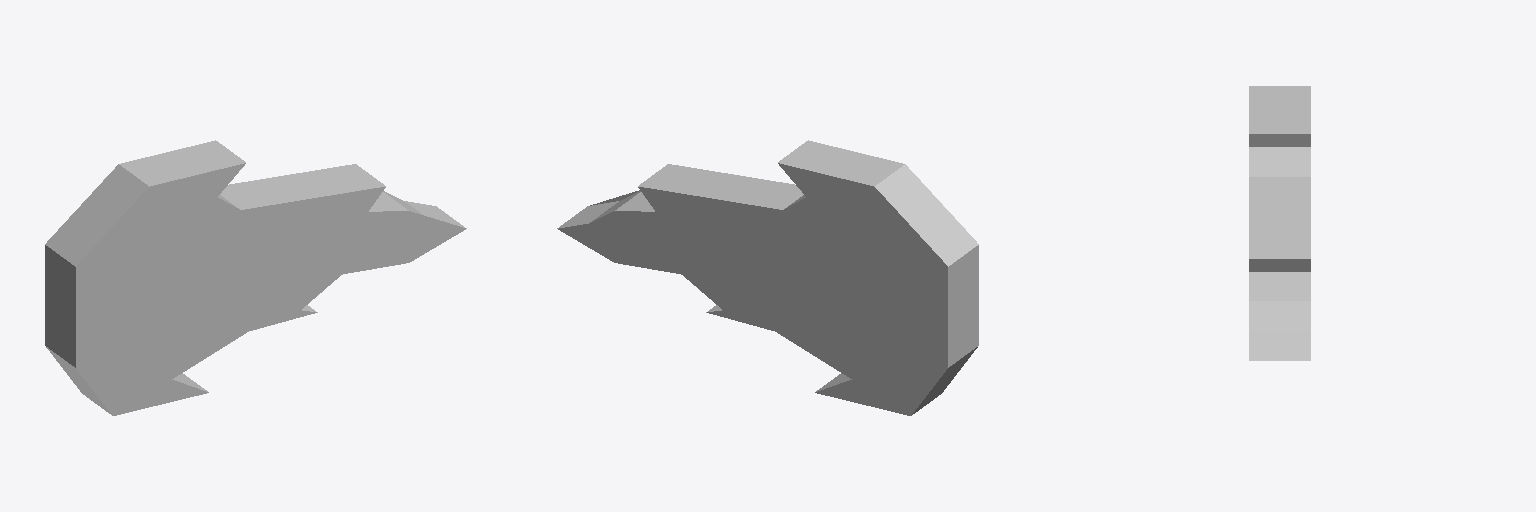
Rendered from roughFirebolt.obj.
3 renders of one model, left to right at view 1: azimuth 30°, elevation 25°; view 2: azimuth 150°, elevation 25°; view 3: azimuth 270°, elevation 25°, orthographic.
Visible parts, largest first — view 1: Cube_Cube.002; view 2: Cube_Cube.002; view 3: Cube_Cube.002.
Boxes of the visible parts, <box> form: Cube_Cube.002: <box>45,140,466,415</box>; Cube_Cube.002: <box>557,140,978,415</box>; Cube_Cube.002: <box>1249,86,1310,360</box>.
Bounding box in the file's own units: 0.7954 × 0.4288 × 0.1083.